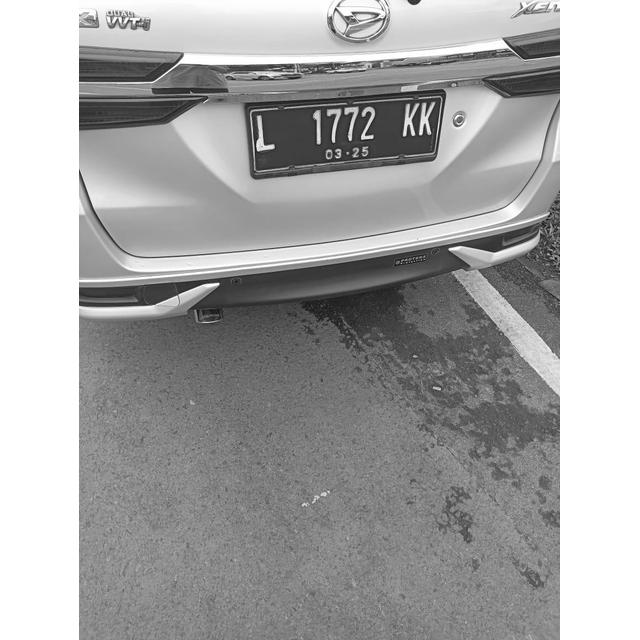license: (255, 100, 438, 162)
